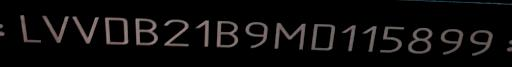letter: (157, 13, 195, 52), (270, 16, 308, 55), (100, 12, 132, 47), (39, 11, 69, 46), (69, 11, 99, 46), (464, 22, 494, 57), (308, 17, 336, 54), (240, 16, 270, 49), (132, 13, 160, 48), (211, 15, 239, 50), (14, 12, 42, 45), (406, 22, 434, 55), (434, 22, 462, 55), (190, 17, 216, 50), (380, 21, 404, 54), (337, 19, 359, 52), (360, 18, 378, 53)
